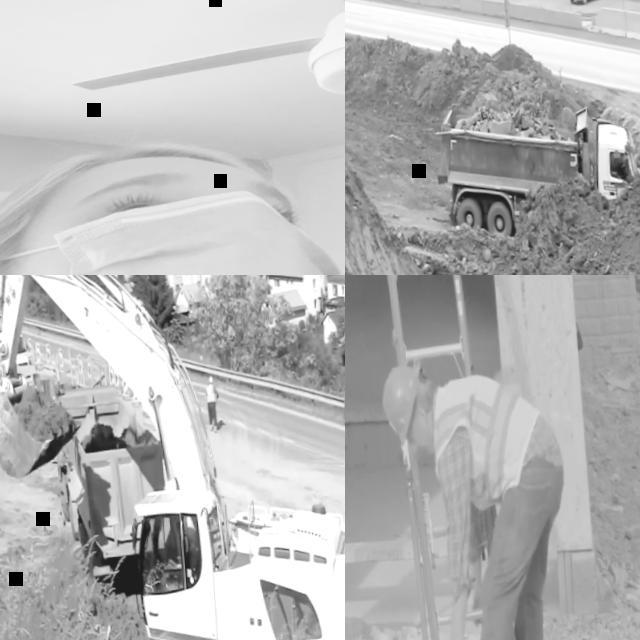helmet: (376, 358, 428, 450), (208, 376, 212, 382)
vest: (426, 370, 545, 504), (204, 384, 216, 404)
